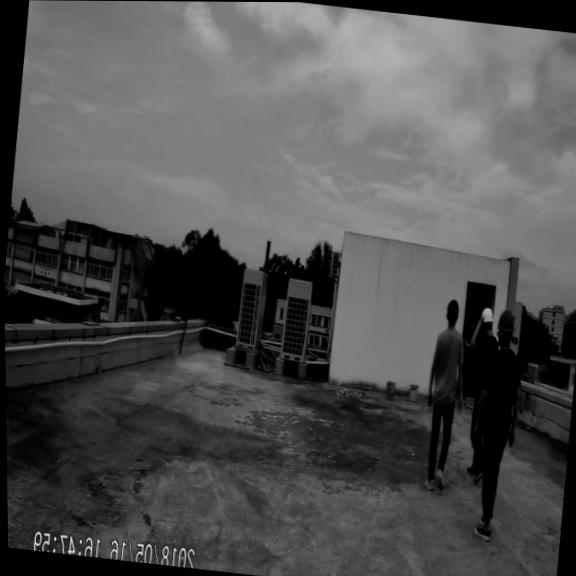no_safety_vest: (482, 348, 523, 439), (423, 326, 465, 398), (470, 334, 497, 411)
